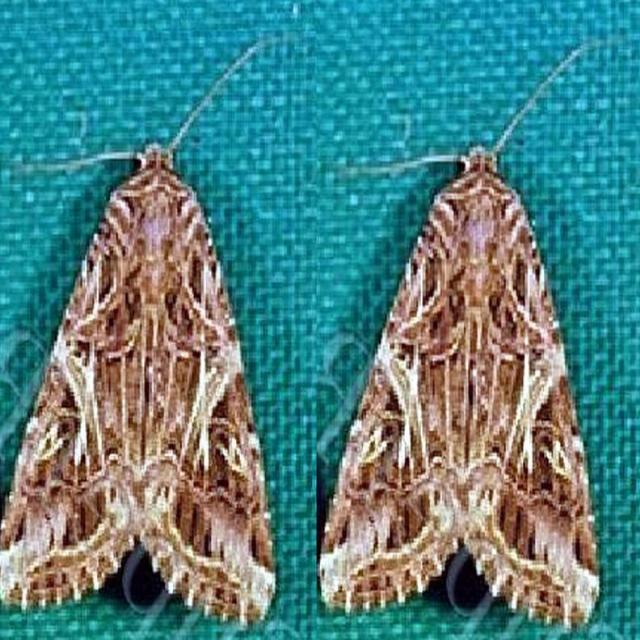BeetArmyWorm-Adult-: (292, 100, 624, 628), (2, 35, 296, 630)
